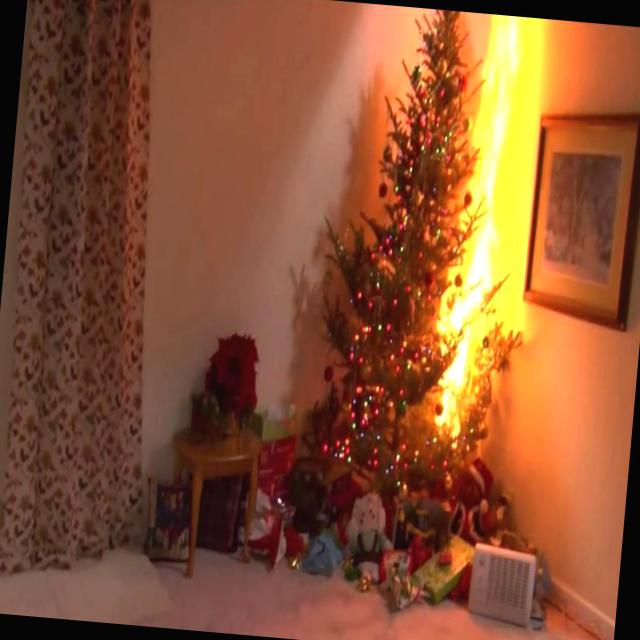fire: (446, 13, 552, 321)
